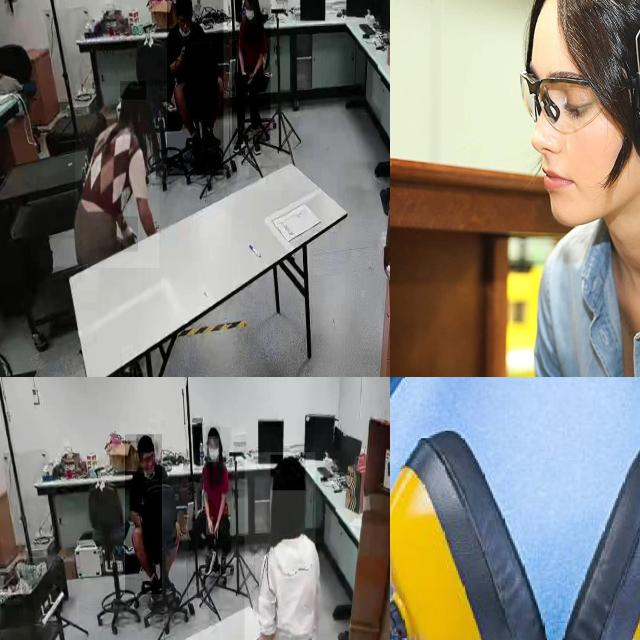Ear-protection: (390, 377, 640, 640)
face_mask: (207, 436, 219, 462), (243, 0, 256, 23)
face_nomask: (178, 12, 190, 38), (141, 452, 155, 474)
glasses: (516, 70, 602, 136)
hand_glove: (121, 216, 139, 253)
hand_noglove: (174, 520, 182, 546), (206, 517, 214, 536), (240, 68, 248, 85), (213, 522, 219, 544), (246, 70, 255, 84)
head_nohelmet: (270, 455, 306, 491), (120, 81, 146, 100), (136, 434, 154, 448), (206, 426, 221, 440), (174, 0, 192, 8)
person: (75, 85, 160, 268), (244, 452, 315, 640), (167, 0, 224, 176), (188, 428, 232, 586), (125, 434, 163, 596), (232, 0, 271, 145)
